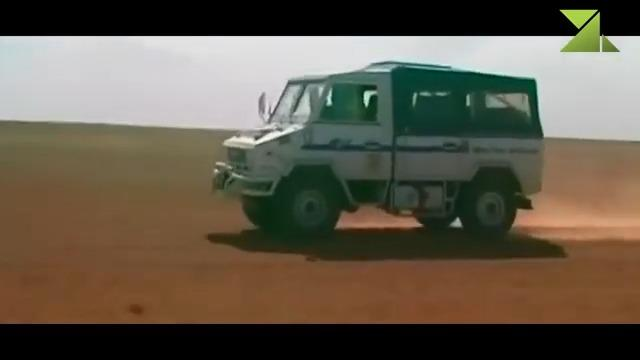MIL_HMMWV: (209, 60, 544, 237)
